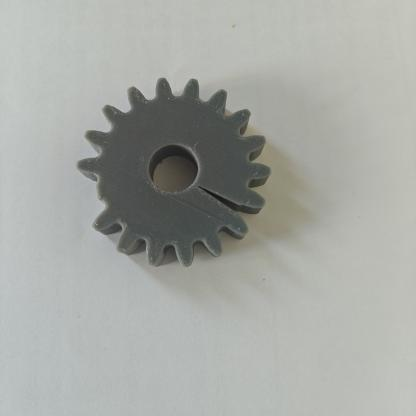defect: (179, 174, 283, 256), (52, 168, 142, 239)
gear: (57, 74, 306, 300)
